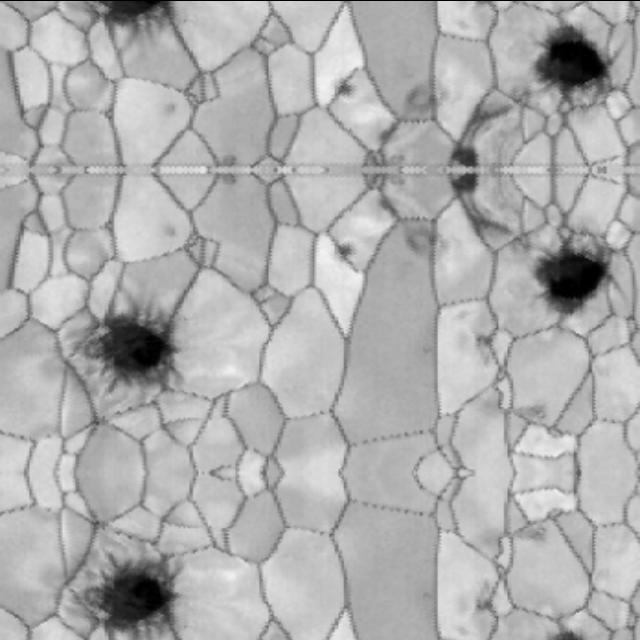good_void: (50, 271, 212, 414), (61, 551, 198, 640), (62, 0, 191, 47), (458, 194, 527, 244), (458, 92, 527, 142), (392, 212, 450, 270), (392, 66, 450, 124), (536, 247, 579, 316), (536, 20, 579, 89), (468, 320, 504, 356), (468, 587, 504, 623), (372, 188, 407, 221), (372, 115, 407, 148), (156, 213, 188, 245), (156, 91, 188, 123), (212, 164, 244, 194), (212, 142, 244, 172), (450, 166, 481, 195), (450, 141, 481, 170), (514, 400, 552, 423), (514, 520, 552, 543), (85, 508, 114, 537), (85, 406, 114, 434), (332, 242, 357, 259), (332, 77, 357, 94), (472, 0, 496, 12), (419, 342, 433, 357), (419, 586, 433, 601)
